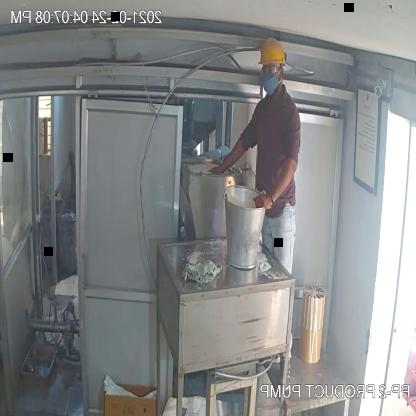helmet: (253, 33, 290, 75)
